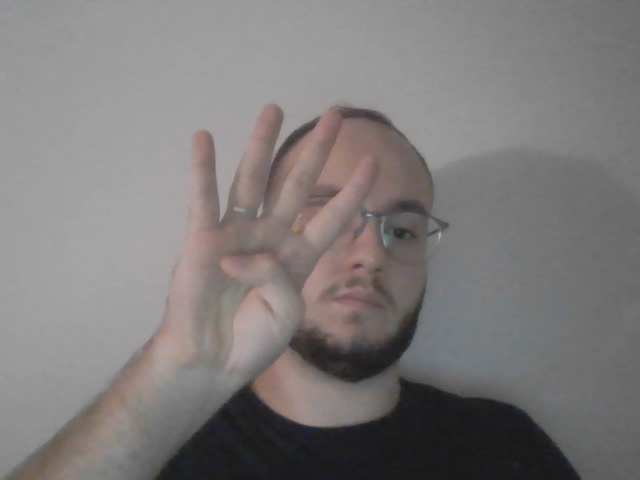Four: (152, 103, 380, 390)
